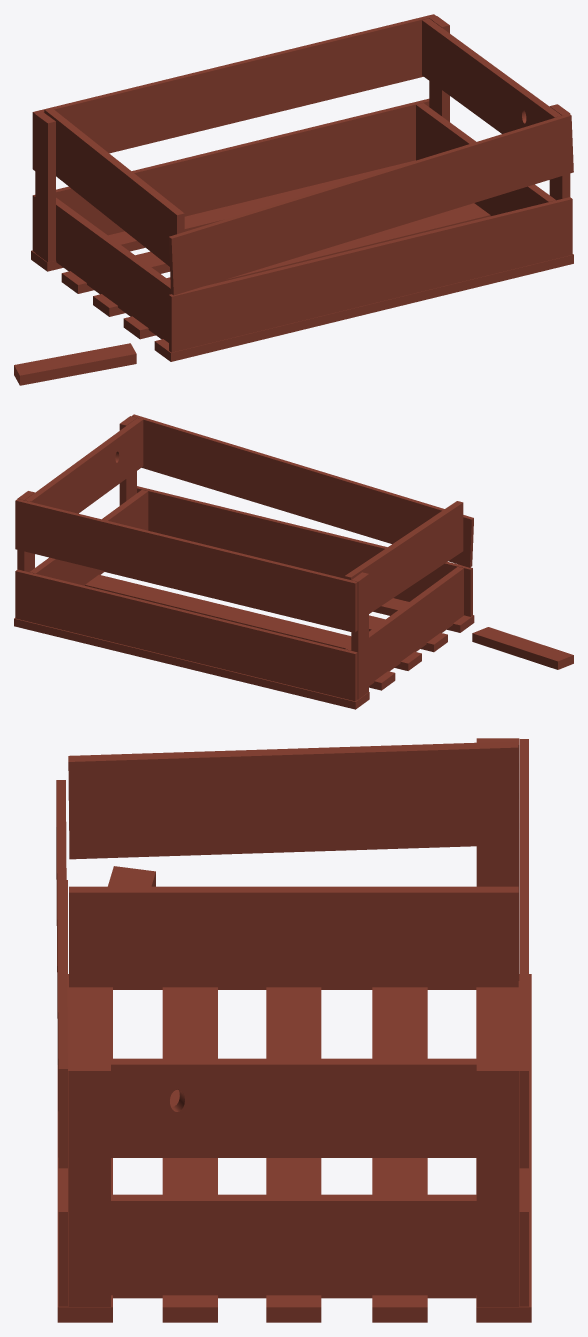
3 renders of one model, top to bottom at view 1: azimuth 30°, elevation 25°; view 2: azimuth 150°, elevation 25°; view 3: azimuth 270°, elevation 25°, orthographic. The views are drawn at different scales.
Visible parts, largest first — view 1: LP_box; view 2: LP_box; view 3: LP_box.
Boxes of the visible parts, x1=… form: LP_box: x1=14, y1=14, x2=573, y2=385; LP_box: x1=14, y1=414, x2=573, y2=709; LP_box: x1=56, y1=738, x2=531, y2=1322.
Size of the model in its own units: 23 by 6.29 by 10.38.
